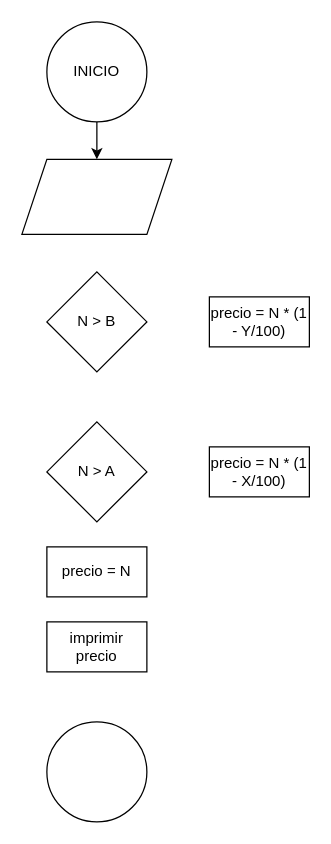
Image size: 331x844. Some labels were removed from this diagram. The shapes that lost their labels are listed below. From the top down, each one's centre as x and y in pixels, then its label:
point 96,196: INPUT N, A, B, X, Y
point 96,771: FIN
